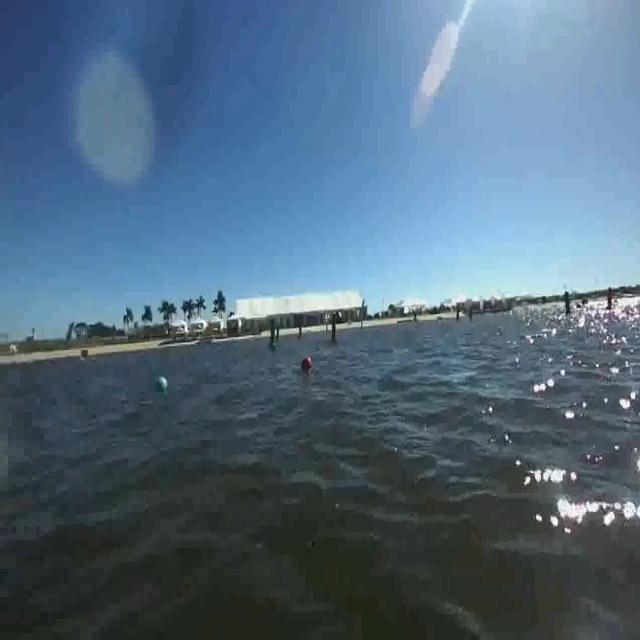green-buoy: (154, 378, 168, 395)
green-column-buoy: (269, 321, 280, 351)
red-buoy: (302, 356, 312, 368)
red-column-buoy: (604, 287, 615, 314)
